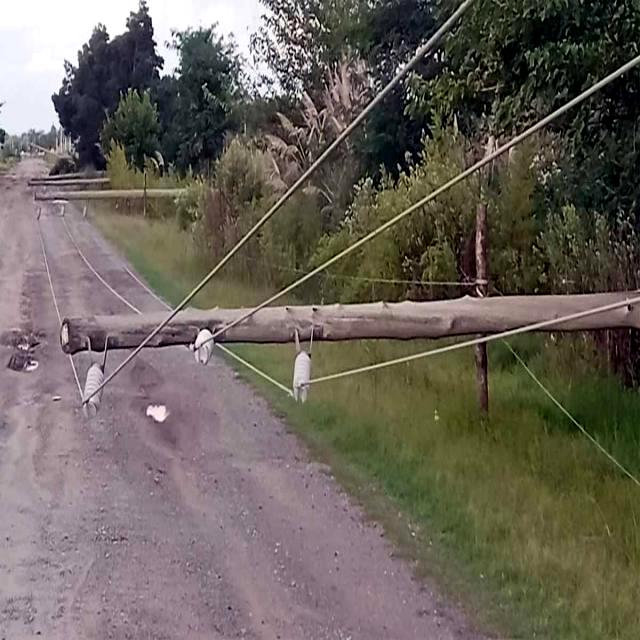Broken Pole: (66, 277, 640, 428), (34, 178, 189, 225)
